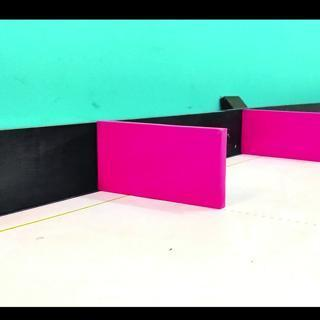xparking: (108, 132, 223, 206), (248, 113, 315, 160)
